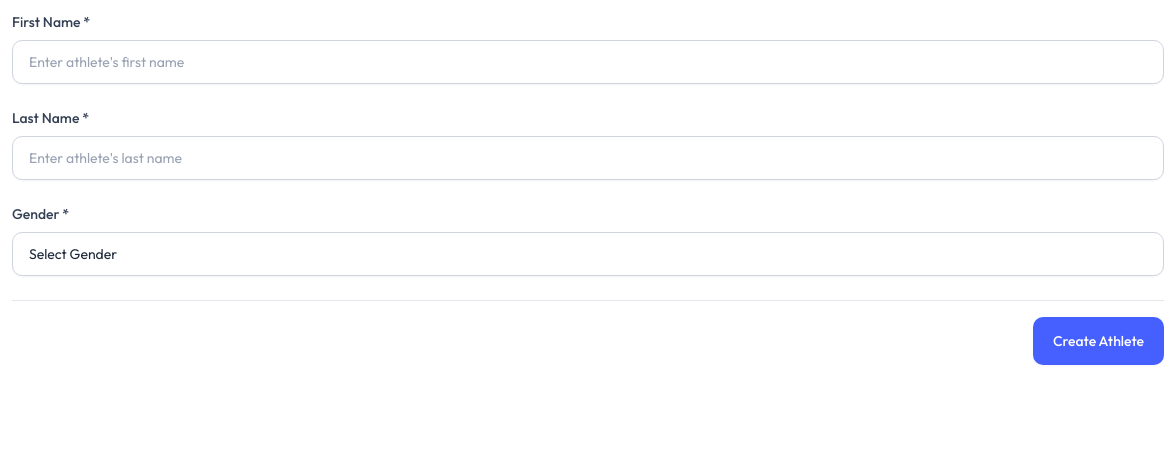
it: AthleteForm › Create Mode › resets form after successful creation
Fill and submit form
Type "John" into the field labelled "First Name *" at (588, 62), box [12,40,1164,84]
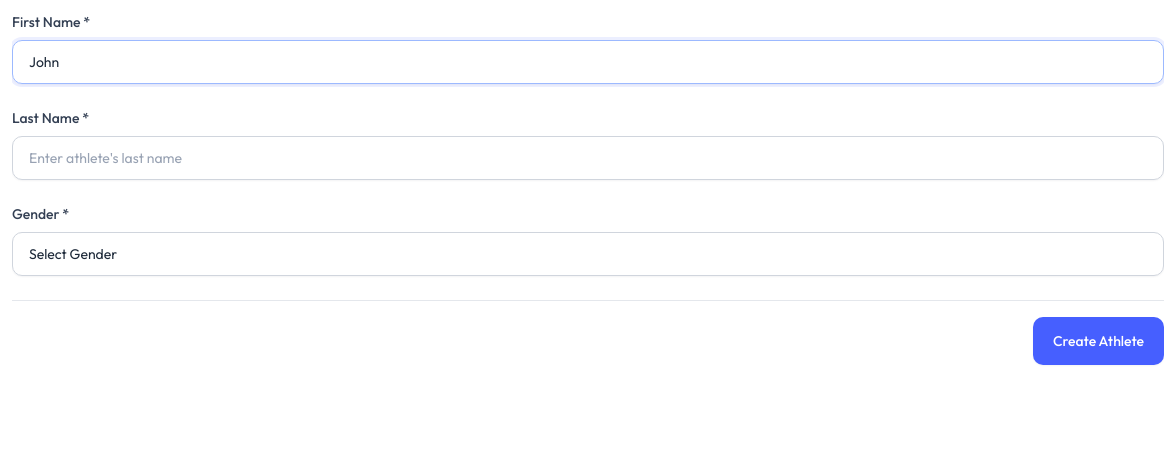
Type "Doe" into the field labelled "Last Name *" at (588, 158), box [12,136,1164,180]
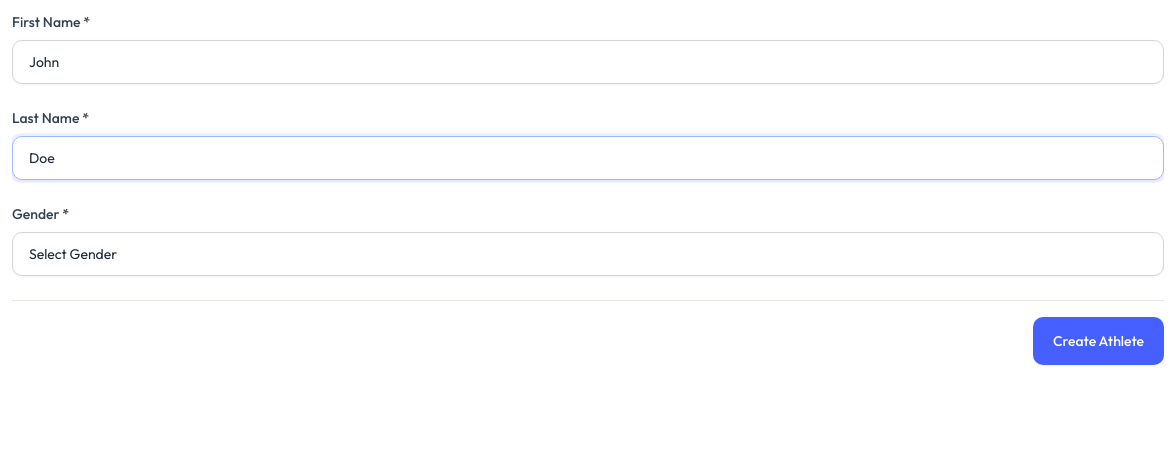
Select "Male" in the dropdown labelled "Gender *" at (588, 254), box [12,232,1164,276]
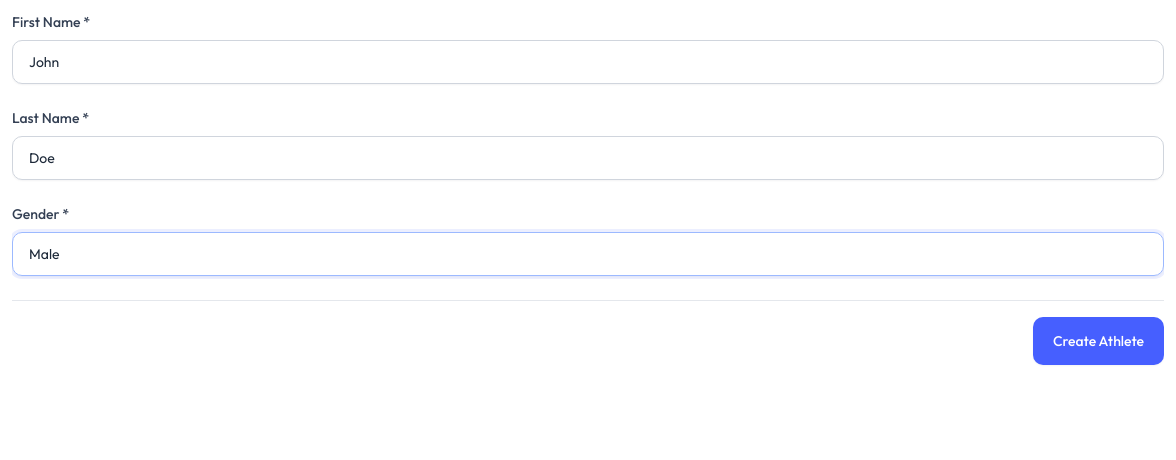
Click the button "Create Athlete" at (1098, 341), box [1033,317,1164,365]
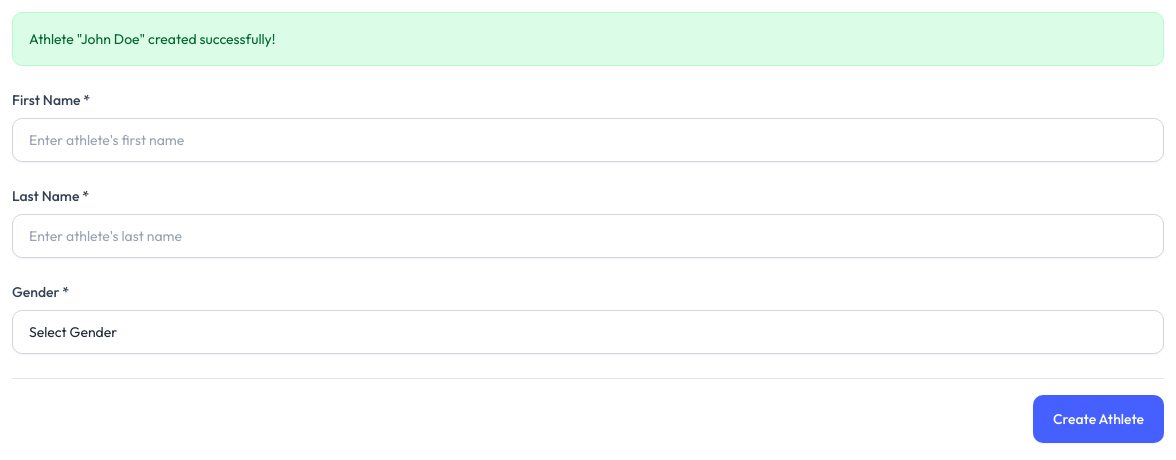
Expected: the text "Athlete \"John Doe\" created successfully!" is shown, [12,12,1164,66]
Expected: the field labelled "First Name *" is empty, [12,118,1164,162]
Expected: the field labelled "Last Name *" is empty, [12,214,1164,258]
